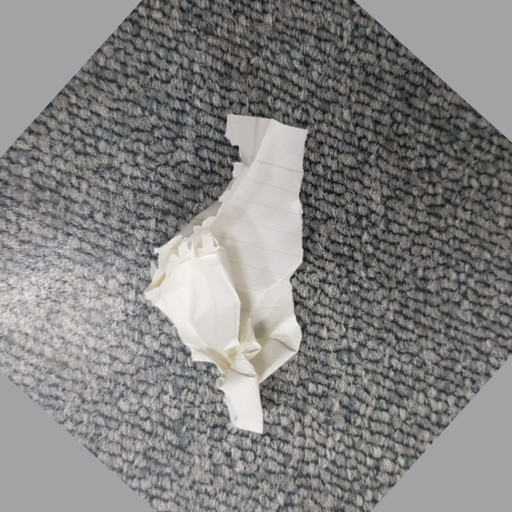Paper_3: (131, 108, 347, 441)
